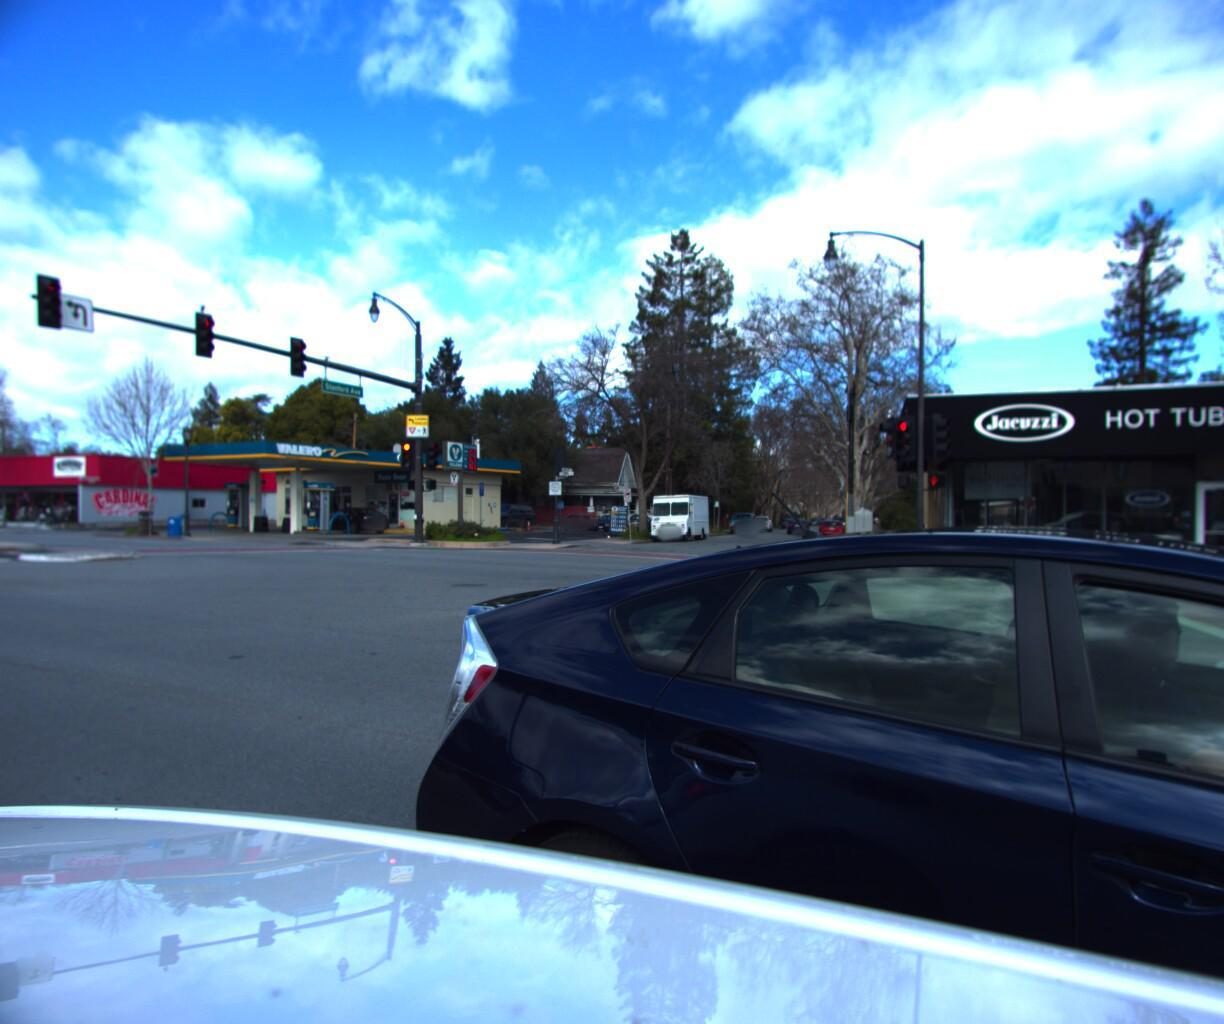bicycle: (34, 516, 58, 534)
car: (309, 448, 1224, 1024), (318, 505, 394, 537), (588, 513, 625, 534), (814, 516, 844, 541), (730, 510, 760, 530), (784, 514, 811, 534), (749, 514, 771, 529)
truck: (642, 493, 710, 541)
